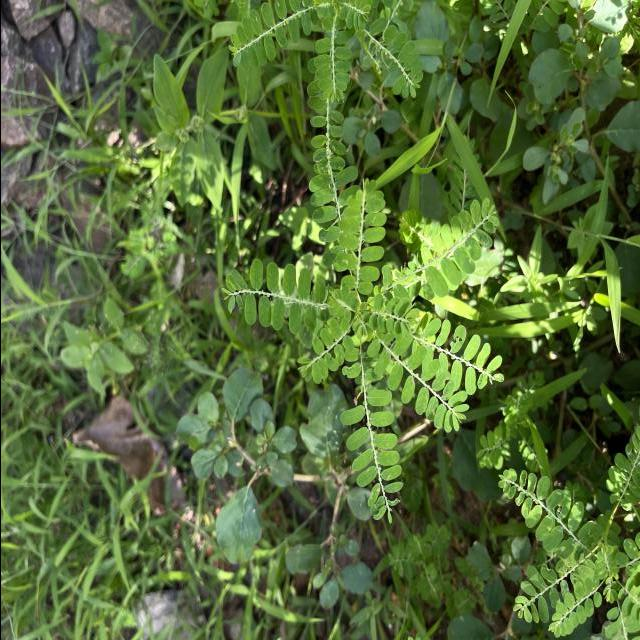Phyllanthus niruri: (364, 319, 469, 436), (335, 384, 403, 528), (496, 464, 590, 562), (416, 195, 500, 298), (216, 257, 322, 337), (332, 174, 386, 296), (297, 313, 357, 388), (547, 576, 603, 639)
